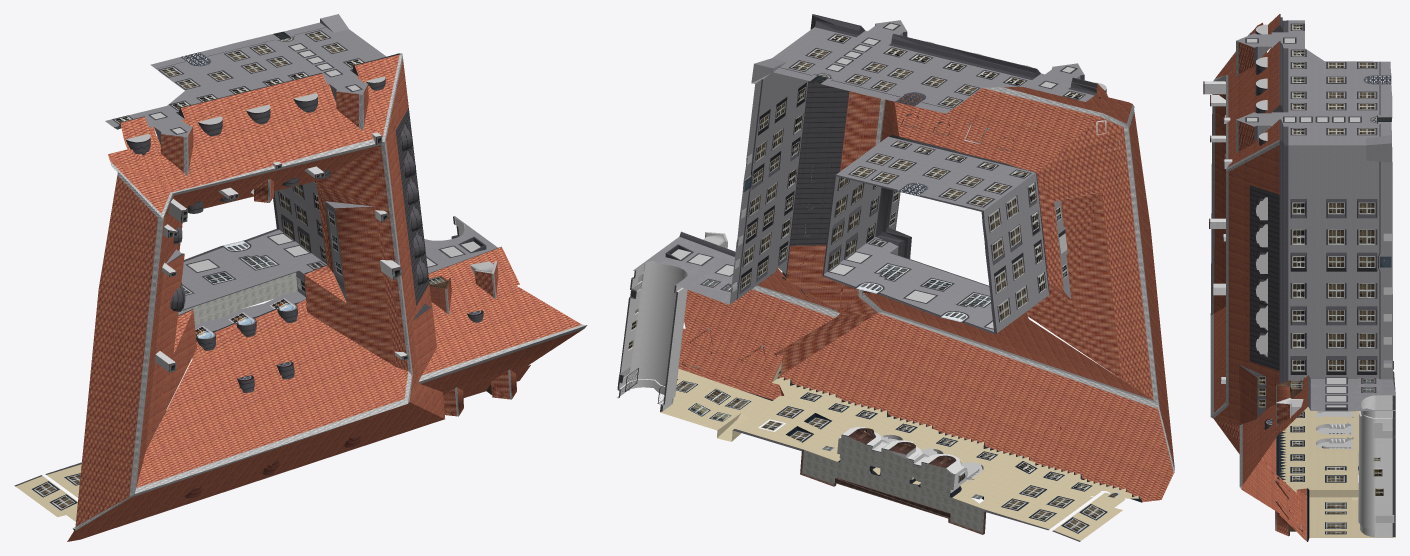
The model's file is Lossi_plats_1a_2-origo.obj.
3 renders of one model, left to right at view 1: azimuth 30°, elevation 25°; view 2: azimuth 150°, elevation 25°; view 3: azimuth 270°, elevation 25°, orthographic. The views are drawn at different scales.
Visible parts, largest first — view 1: Lossi_plats_1a_2; view 2: Lossi_plats_1a_2; view 3: Lossi_plats_1a_2.
Boxes of the visible parts, <box> form: Lossi_plats_1a_2: <box>14,14,587,541</box>; Lossi_plats_1a_2: <box>616,14,1174,541</box>; Lossi_plats_1a_2: <box>1203,14,1395,541</box>.
Bounding box in the file's own units: 67.31 × 52.5 × 24.02.
